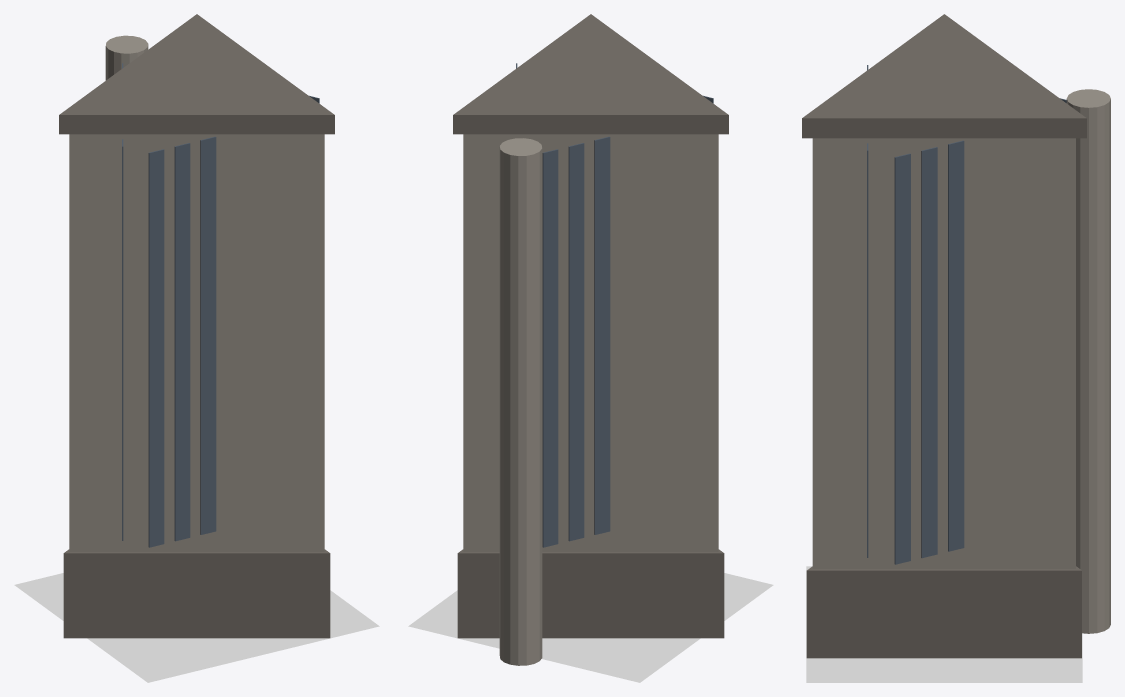
File: flatiron.glb
3 views of the same model, side by side, from view 1: azimuth 30°, elevation 25°; view 2: azimuth 150°, elevation 25°; view 3: azimuth 270°, elevation 25° (orthographic). The views are drawn at different scales.
Visible parts, largest first — view 1: Cylinder, Cylinder.002, Cylinder.003, Plane, Cube.015, Cube.014, Cube.016, Cylinder.001, Cube.013; view 2: Cylinder, Cylinder.001, Cylinder.002, Cylinder.003, Plane, Cube.008, Cube.007, Cube.009; view 3: Cylinder, Cylinder.002, Cylinder.003, Cylinder.001, Plane, Cube.001, Cube, Cube.002, Cube.020.
Part boxes in pixels (x1,y1,x2,y2): Cylinder: [69, 134, 324, 551]; Cylinder.002: [63, 549, 330, 638]; Cylinder.003: [59, 14, 334, 134]; Plane: [14, 573, 379, 682]; Cube.015: [174, 143, 190, 541]; Cube.014: [148, 149, 164, 547]; Cube.016: [200, 136, 216, 534]; Cylinder.001: [105, 35, 148, 80]; Cube.013: [122, 139, 123, 540]; Cylinder: [463, 134, 718, 551]; Cylinder.001: [499, 138, 542, 665]; Cylinder.002: [457, 549, 724, 638]; Cylinder.003: [453, 14, 728, 134]; Plane: [408, 573, 773, 682]; Cube.008: [568, 143, 584, 541]; Cube.007: [542, 149, 558, 547]; Cube.009: [594, 136, 610, 534]; Cylinder: [812, 138, 1075, 568]; Cylinder.002: [806, 566, 1081, 658]; Cylinder.003: [802, 14, 1086, 138]; Cylinder.001: [1066, 89, 1110, 633]; Plane: [806, 566, 1082, 682]; Cube.001: [921, 147, 937, 558]; Cube: [894, 153, 910, 564]; Cube.002: [948, 140, 964, 551]; Cube.020: [867, 143, 868, 557].
Size of the model in its own units: 21.9 by 43.2 by 22.36.
